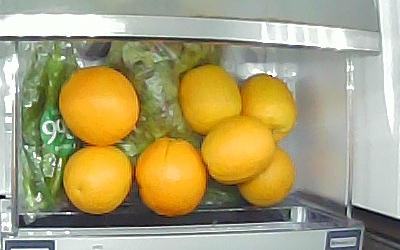orange: (57, 64, 140, 144), (134, 135, 206, 215), (200, 113, 277, 184), (61, 144, 132, 214), (177, 62, 242, 134), (238, 72, 296, 141), (237, 145, 296, 206)
